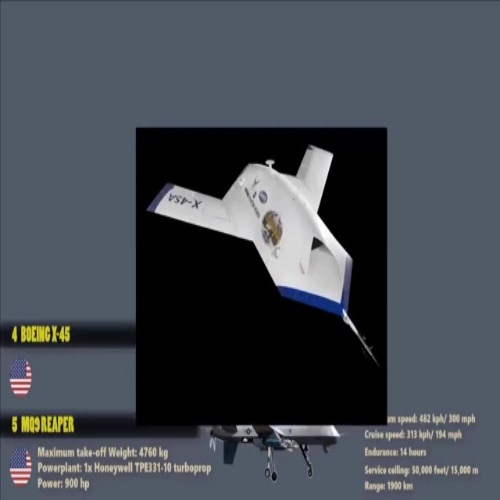uav899: (145, 144, 381, 371)
